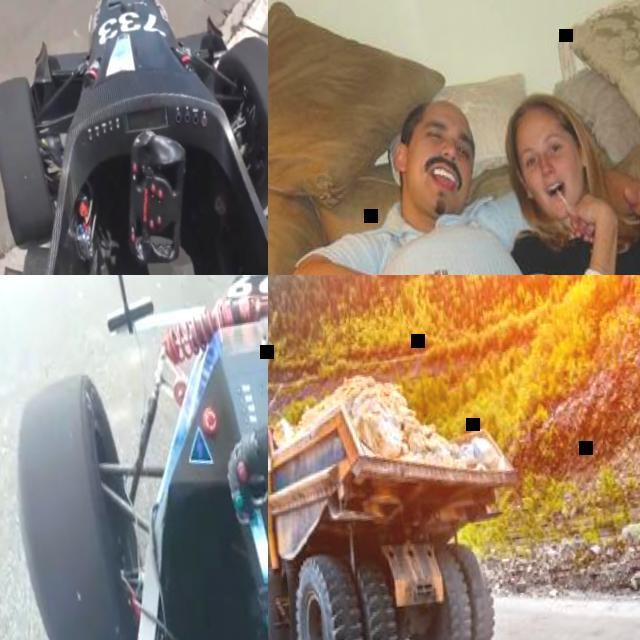Weapon: (302, 45, 640, 272)
